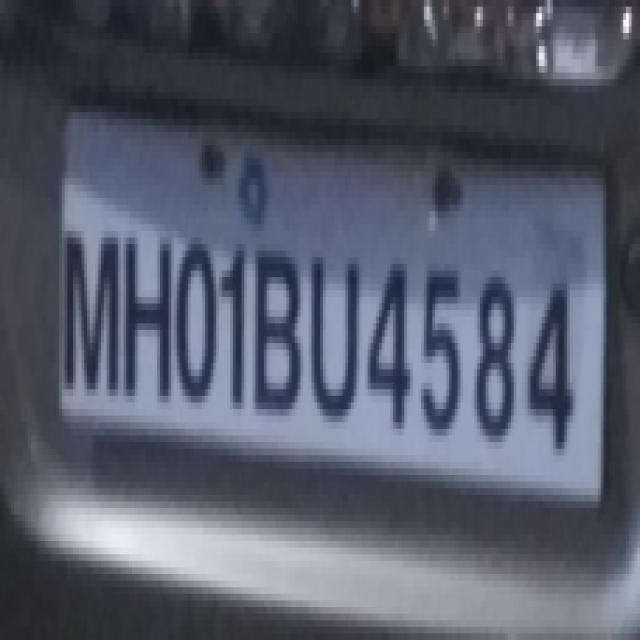0: (174, 244, 221, 408)
1: (217, 230, 250, 408)
4: (526, 276, 576, 458), (367, 252, 415, 439)
5: (421, 259, 467, 436)
8: (472, 273, 518, 442)
B: (252, 237, 300, 393)
H: (123, 230, 175, 406)
M: (62, 218, 122, 402)
U: (311, 246, 363, 423)
